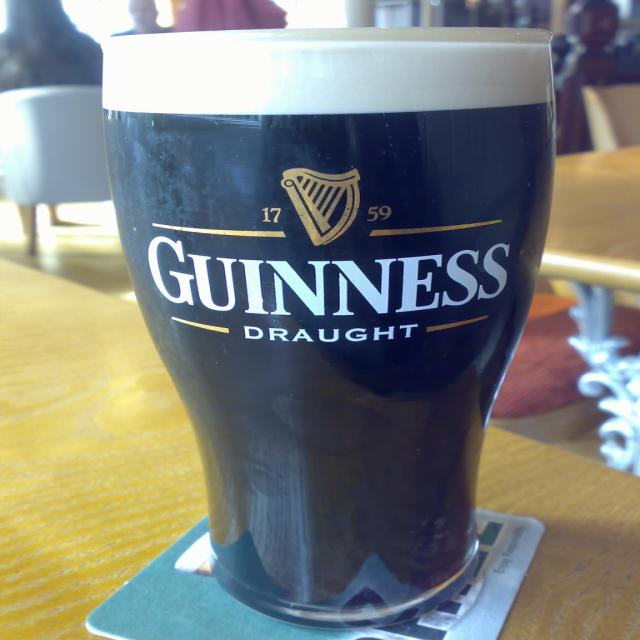guiness: (140, 163, 516, 321)
